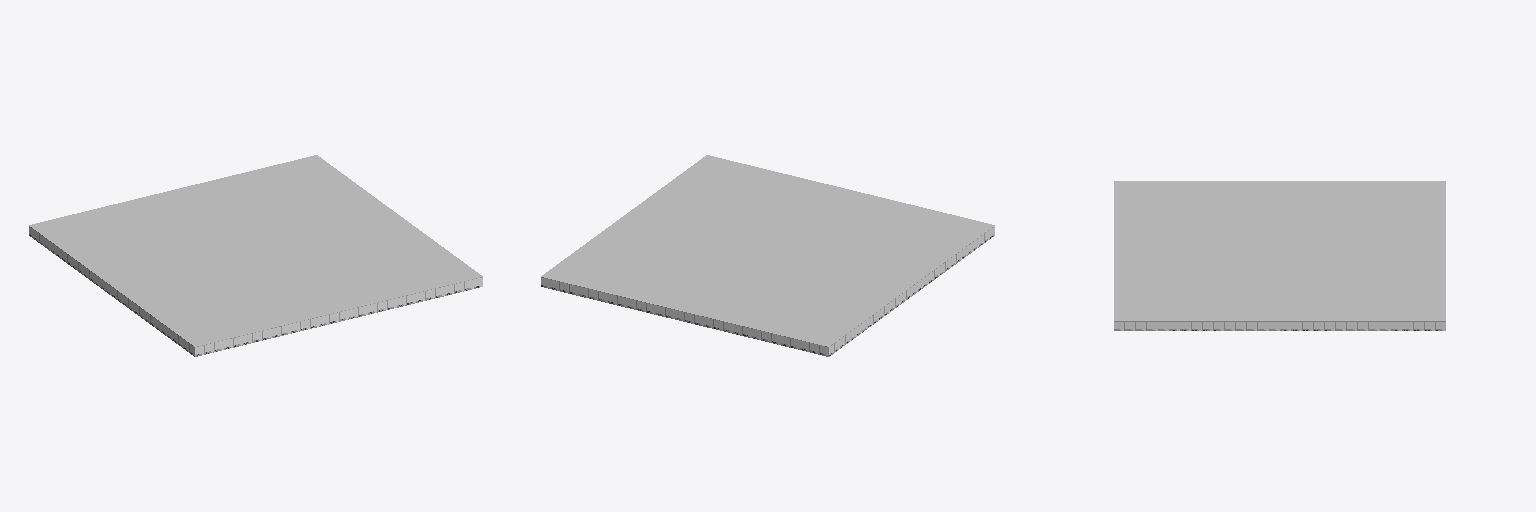
The picture shows the model from 3 angles: view 1: azimuth 30°, elevation 25°; view 2: azimuth 150°, elevation 25°; view 3: azimuth 270°, elevation 25°; orthographic projection.
Visible parts, largest first — view 1: cube; view 2: cube; view 3: cube.
Boxes of the visible parts, x1,y1,x2,y2 form: cube: [29, 155, 482, 356]; cube: [541, 155, 994, 356]; cube: [1114, 181, 1445, 330].
Size of the model in its own units: 30 by 1 by 30.
Materials: 2 (1 with a texture image).